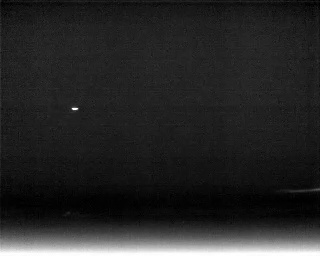AIRPLANE: (69, 105, 80, 113)
